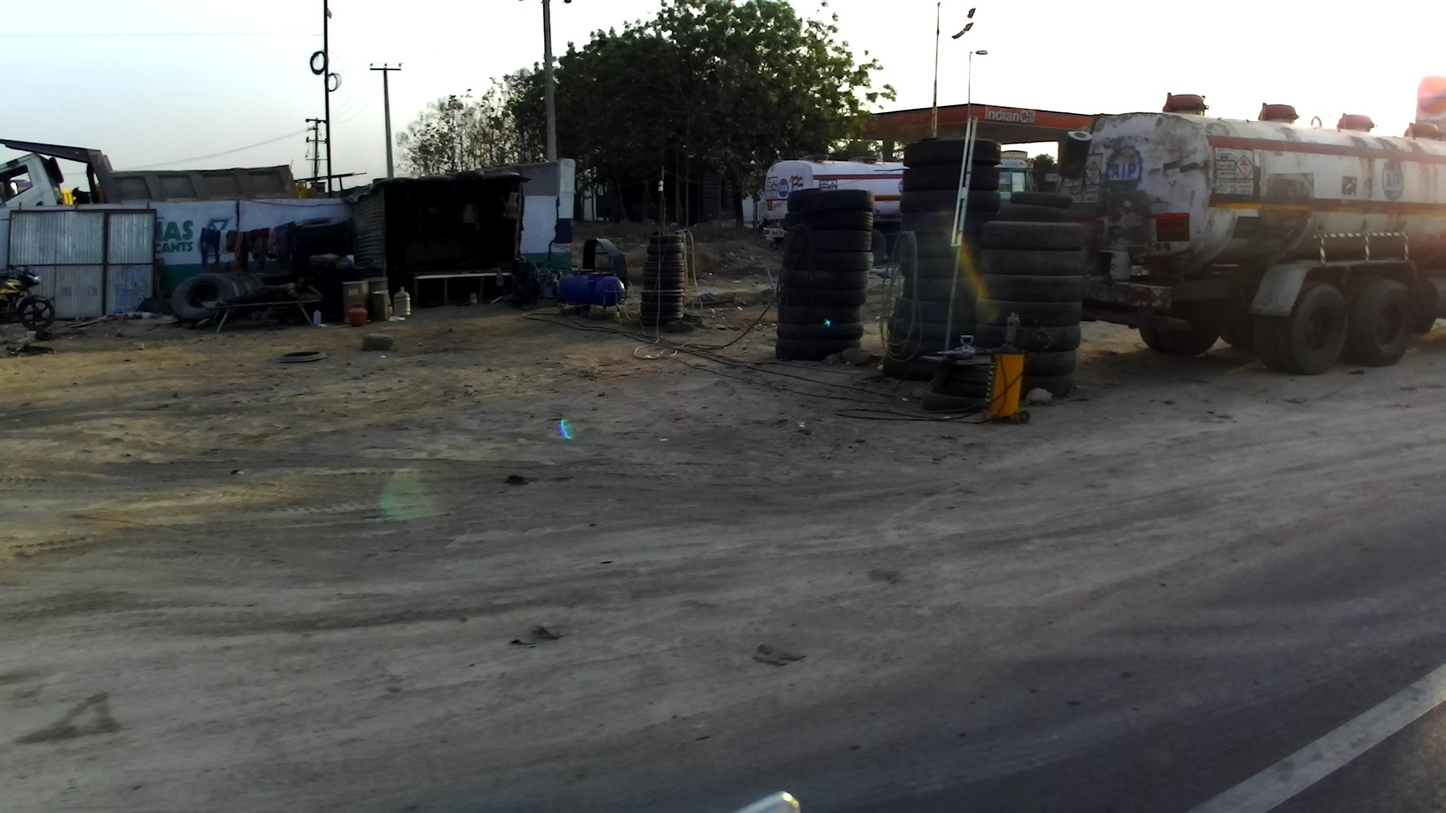motorcycle: (1, 257, 56, 336)
truck: (1046, 89, 1444, 381), (753, 148, 1047, 257), (1, 125, 305, 214)
